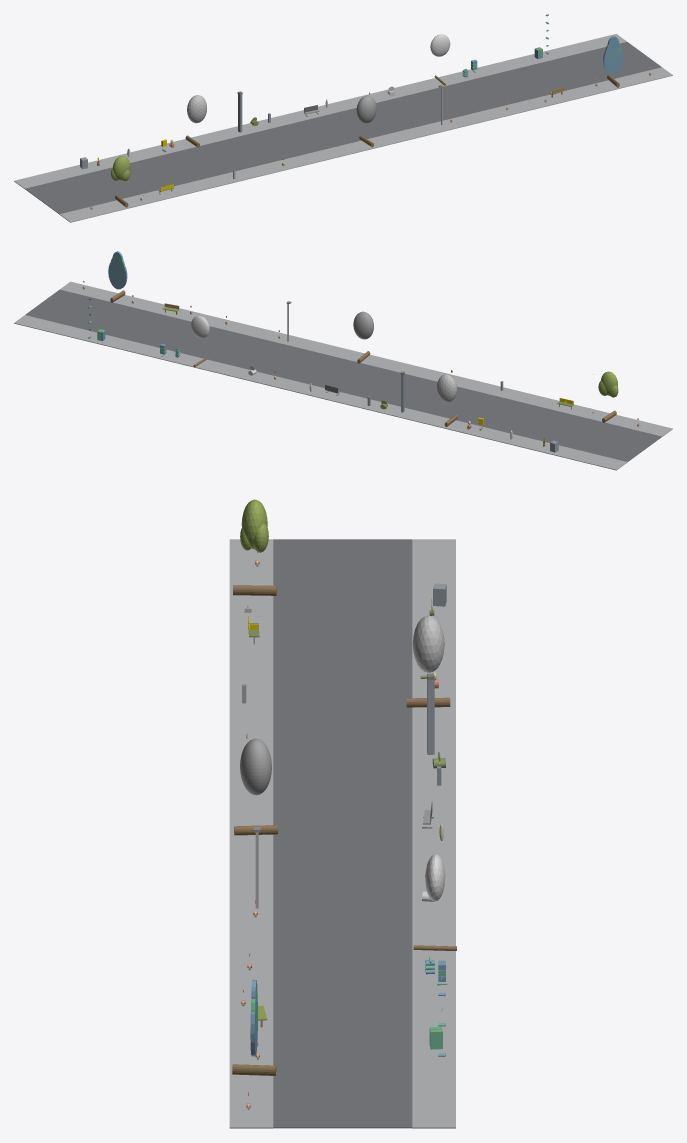
3 views of the same model, one above another, from view 1: azimuth 30°, elevation 25°; view 2: azimuth 150°, elevation 25°; view 3: azimuth 270°, elevation 25° (orthographic). The views are drawn at different scales.
Parts seen in each view (by area): view 1: road_slab, sidewalk_left, sidewalk_right, inst_0016, inst_0013, inst_0014, inst_0012, inst_0015; view 2: road_slab, sidewalk_right, sidewalk_left, inst_0016, inst_0013, inst_0014, inst_0012, inst_0015; view 3: road_slab, sidewalk_left, sidewalk_right, inst_0014, inst_0013, inst_0012, inst_0016, inst_0015.
Boxes of the visible parts, x1,y1,x2,y2 form: road_slab: [25, 42, 661, 214]; sidewalk_left: [59, 67, 672, 222]; sidewalk_right: [14, 34, 626, 188]; inst_0016: [603, 36, 623, 87]; inst_0013: [185, 95, 206, 147]; inst_0014: [356, 95, 376, 147]; inst_0012: [111, 156, 130, 207]; inst_0015: [430, 34, 450, 85]; road_slab: [25, 289, 661, 461]; sidewalk_right: [14, 315, 627, 470]; sidewalk_left: [60, 281, 672, 436]; inst_0016: [108, 251, 127, 302]; inst_0013: [436, 374, 457, 426]; inst_0014: [353, 311, 373, 363]; inst_0012: [598, 371, 618, 422]; inst_0015: [191, 315, 209, 367]; road_slab: [273, 539, 412, 1128]; sidewalk_left: [229, 539, 273, 1128]; sidewalk_right: [412, 539, 455, 1128]; inst_0014: [234, 738, 277, 835]; inst_0013: [406, 615, 450, 707]; inst_0012: [233, 499, 276, 595]; inst_0016: [232, 979, 276, 1075]; inst_0015: [413, 854, 456, 950].
Size of the model in its own units: 80 by 6.08 by 13.07.
